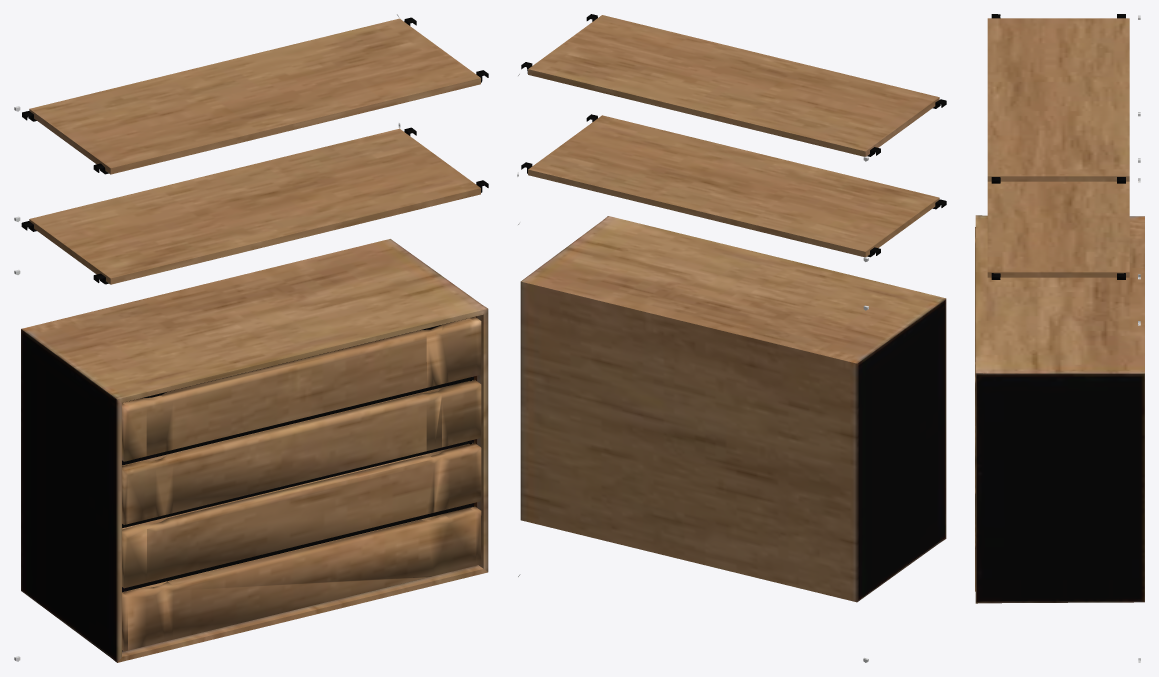
File: drawer_cabinet.glb
The picture shows the model from 3 angles, left to right: view 1: azimuth 30°, elevation 25°; view 2: azimuth 150°, elevation 25°; view 3: azimuth 270°, elevation 25°; orthographic projection. The views are drawn at different scales.
Parts seen in each view (by area): view 1: drawer_cabinet; view 2: drawer_cabinet; view 3: drawer_cabinet.
Boxes of the visible parts, x1=… form: drawer_cabinet: x1=14, y1=14, x2=488, y2=662; drawer_cabinet: x1=517, y1=14, x2=946, y2=662; drawer_cabinet: x1=975, y1=14, x2=1144, y2=662.
Size of the model in its own units: 1.13 by 1.54 by 0.488.
1 material, 1 textured.
